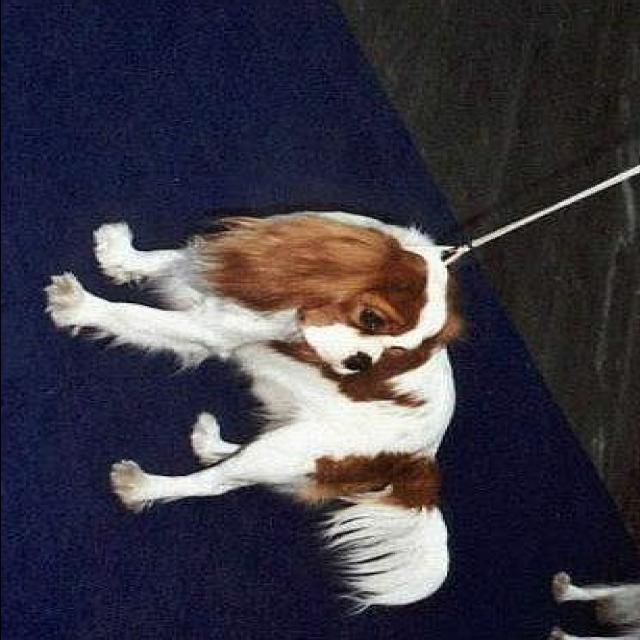blenheim_spaniel: (39, 208, 472, 610)
